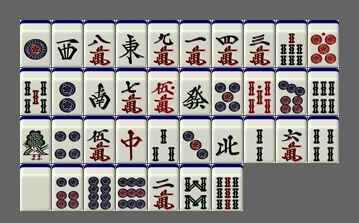0m: (148, 68, 179, 115)
0p: (308, 20, 339, 67)
0s: (244, 68, 275, 115)
1m: (180, 20, 211, 67)
1p: (20, 20, 51, 67)
1s: (20, 116, 51, 163)
1z: (116, 20, 147, 67)
2m: (148, 164, 179, 211)
2p: (52, 68, 83, 115)
2s: (244, 116, 275, 163)
2z: (84, 68, 115, 115)
3m: (244, 20, 275, 67)
3p: (180, 116, 211, 163)
3s: (148, 116, 179, 163)
3z: (52, 20, 83, 67)
4m: (212, 20, 243, 67)
4p: (52, 116, 83, 163)
4s: (308, 116, 339, 163)
4z: (212, 116, 243, 163)
5m: (84, 116, 115, 163)
5p: (212, 68, 243, 115)
5s: (20, 68, 51, 115)
5z: (20, 164, 51, 211)
6m: (276, 116, 307, 163)
6p: (52, 164, 83, 211)
6s: (308, 68, 339, 115)
6z: (180, 68, 211, 115)
7m: (116, 68, 147, 115)
7p: (276, 68, 307, 115)
7s: (276, 20, 307, 67)
7z: (116, 116, 147, 163)
8m: (84, 20, 115, 67)
8p: (84, 164, 115, 211)
8s: (180, 164, 211, 211)
9m: (148, 20, 179, 67)
9p: (116, 164, 147, 211)
9s: (212, 164, 243, 211)
